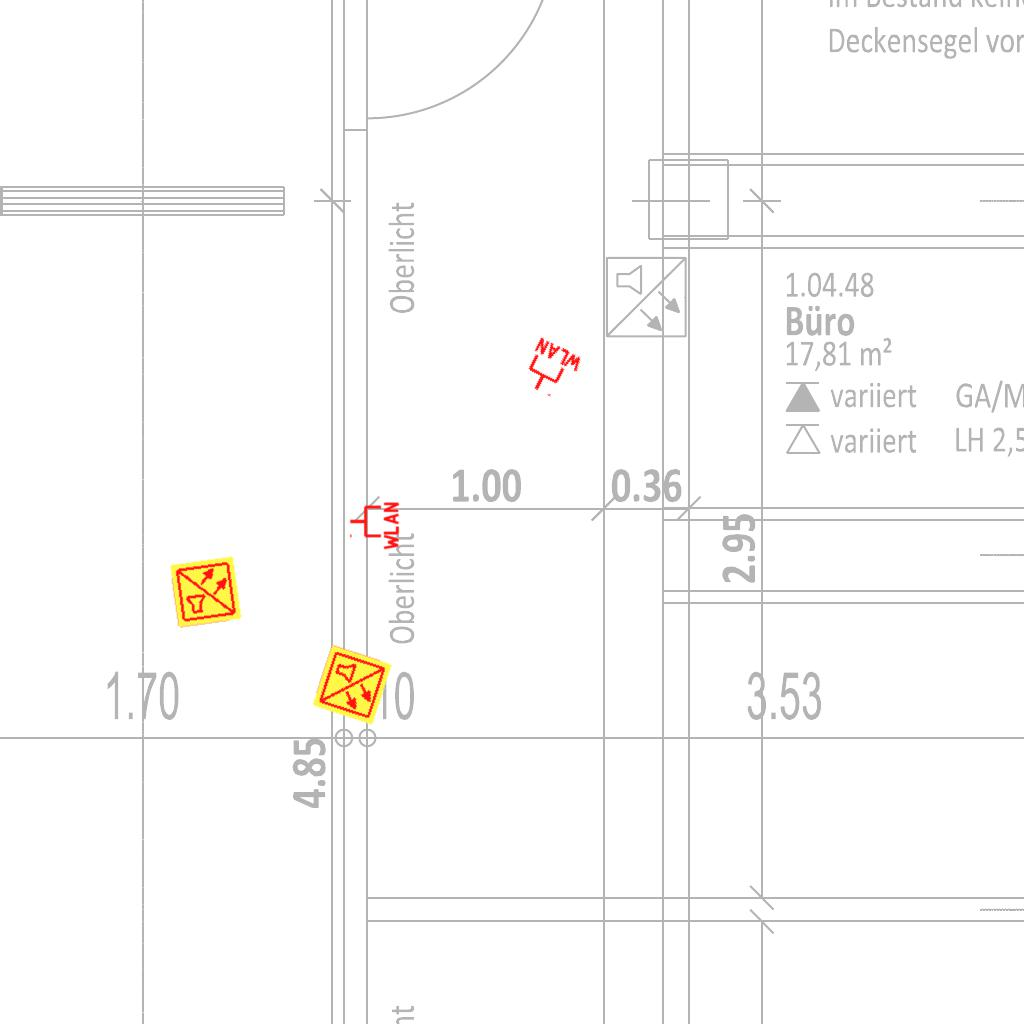OKW_Multisensormelder_(Kombination_optischer_Rauch-Kahlenmonoxid_Waerme-Melder): (310, 643, 394, 727), (168, 554, 244, 630)
WLAN: (516, 335, 586, 405), (348, 500, 400, 552)
